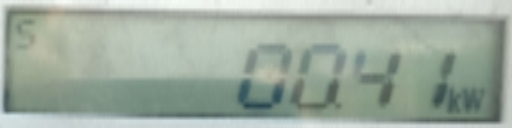0: (235, 36, 291, 115), (288, 34, 344, 113)
1: (407, 37, 463, 116)
4: (349, 33, 405, 112)
d: (333, 100, 347, 116)
